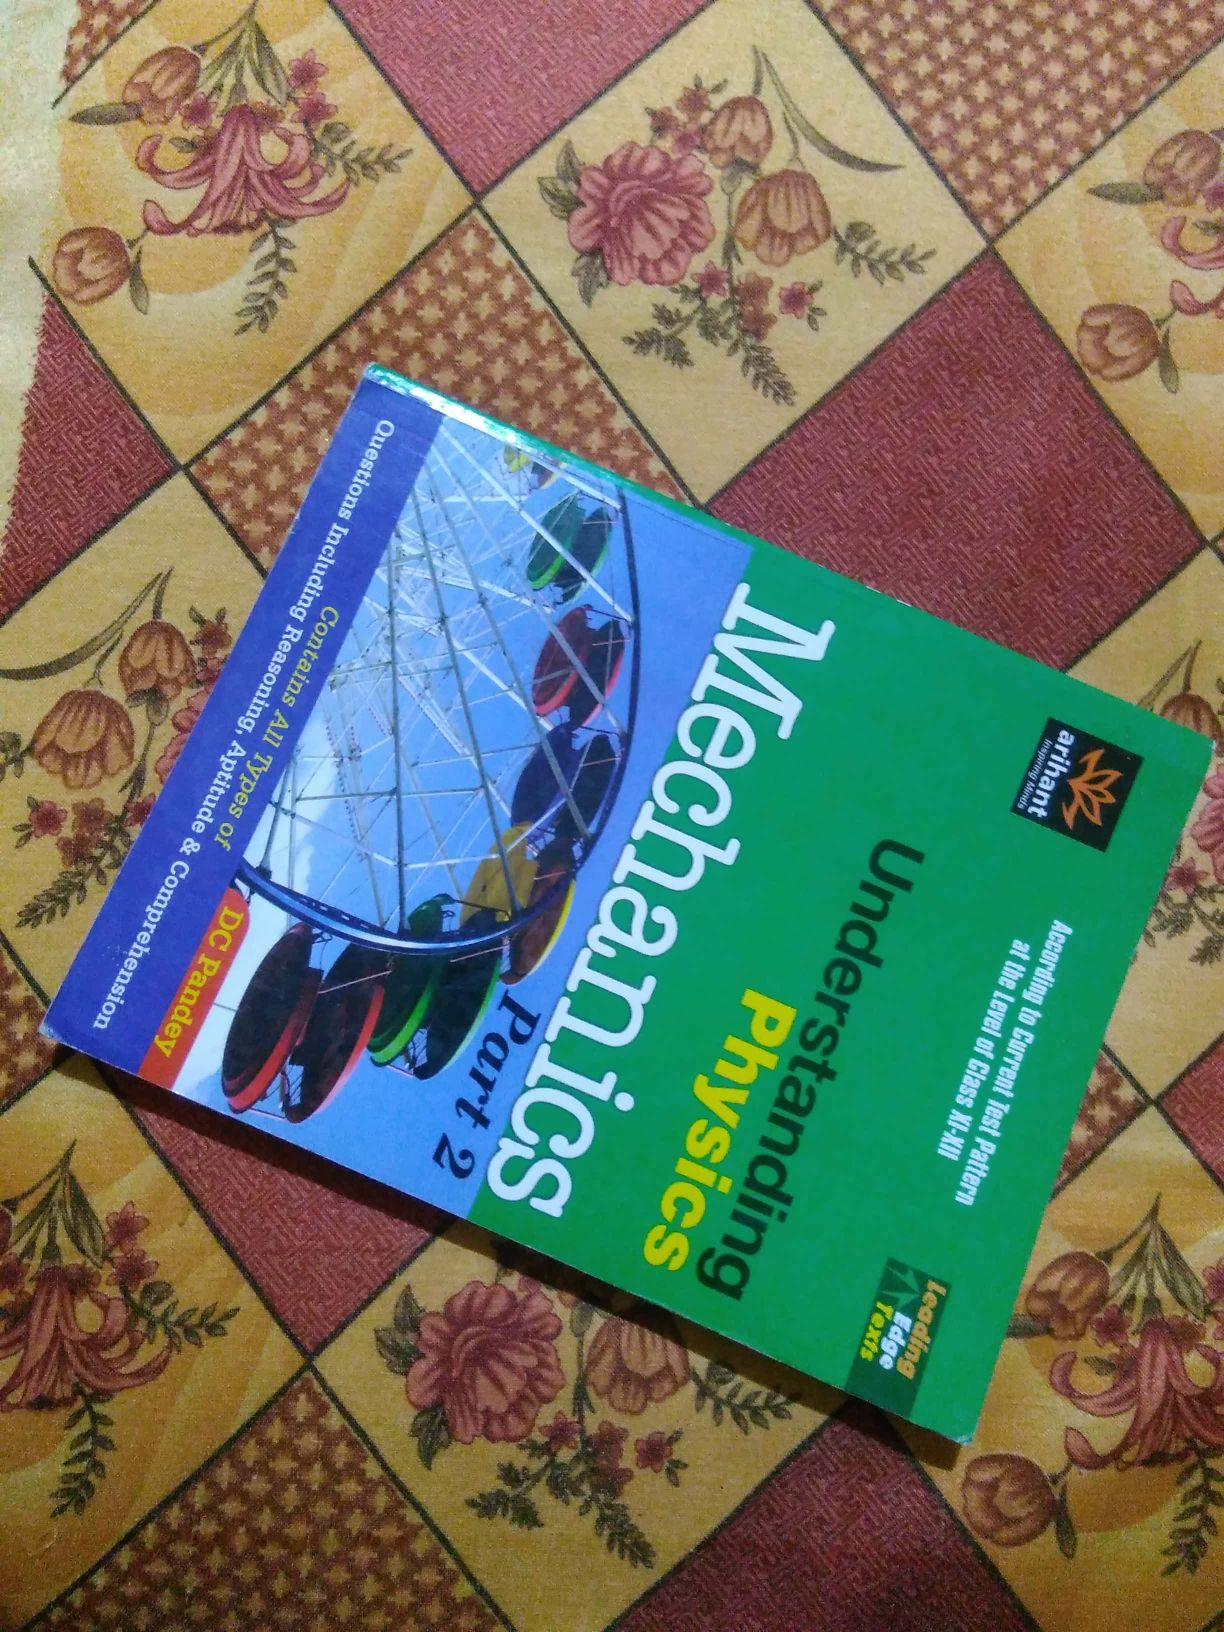mechanics: (100, 346, 1192, 1500)
